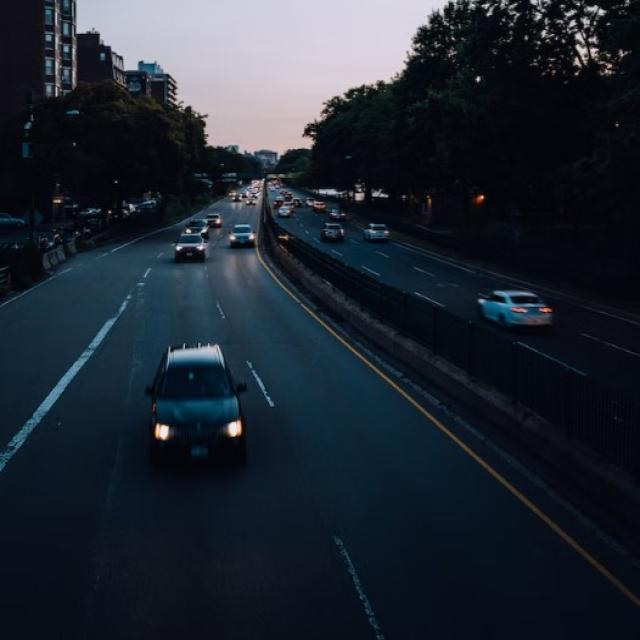car: (144, 340, 250, 470), (476, 287, 553, 331), (174, 232, 207, 262), (228, 223, 256, 248), (363, 223, 389, 243), (186, 219, 209, 241), (321, 223, 344, 241), (205, 212, 221, 227), (329, 208, 346, 222), (278, 206, 292, 218), (312, 201, 326, 213), (246, 198, 256, 206), (232, 195, 242, 202)
